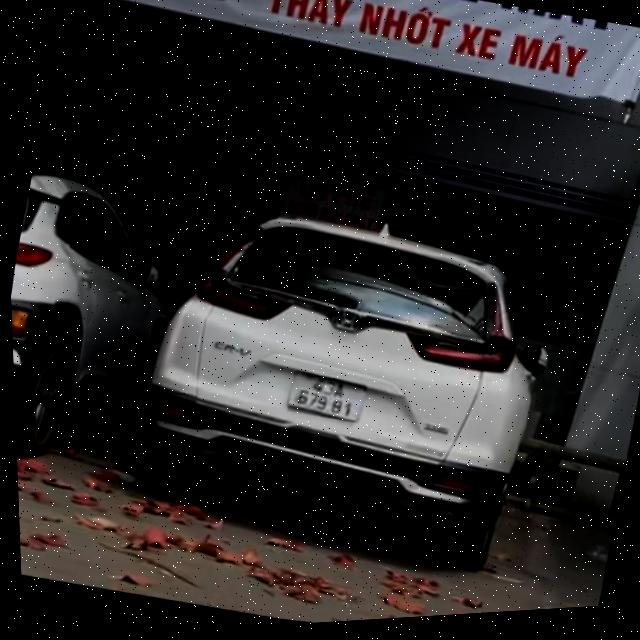car: (116, 173, 549, 584), (6, 156, 206, 485)
plate: (275, 360, 379, 437)
